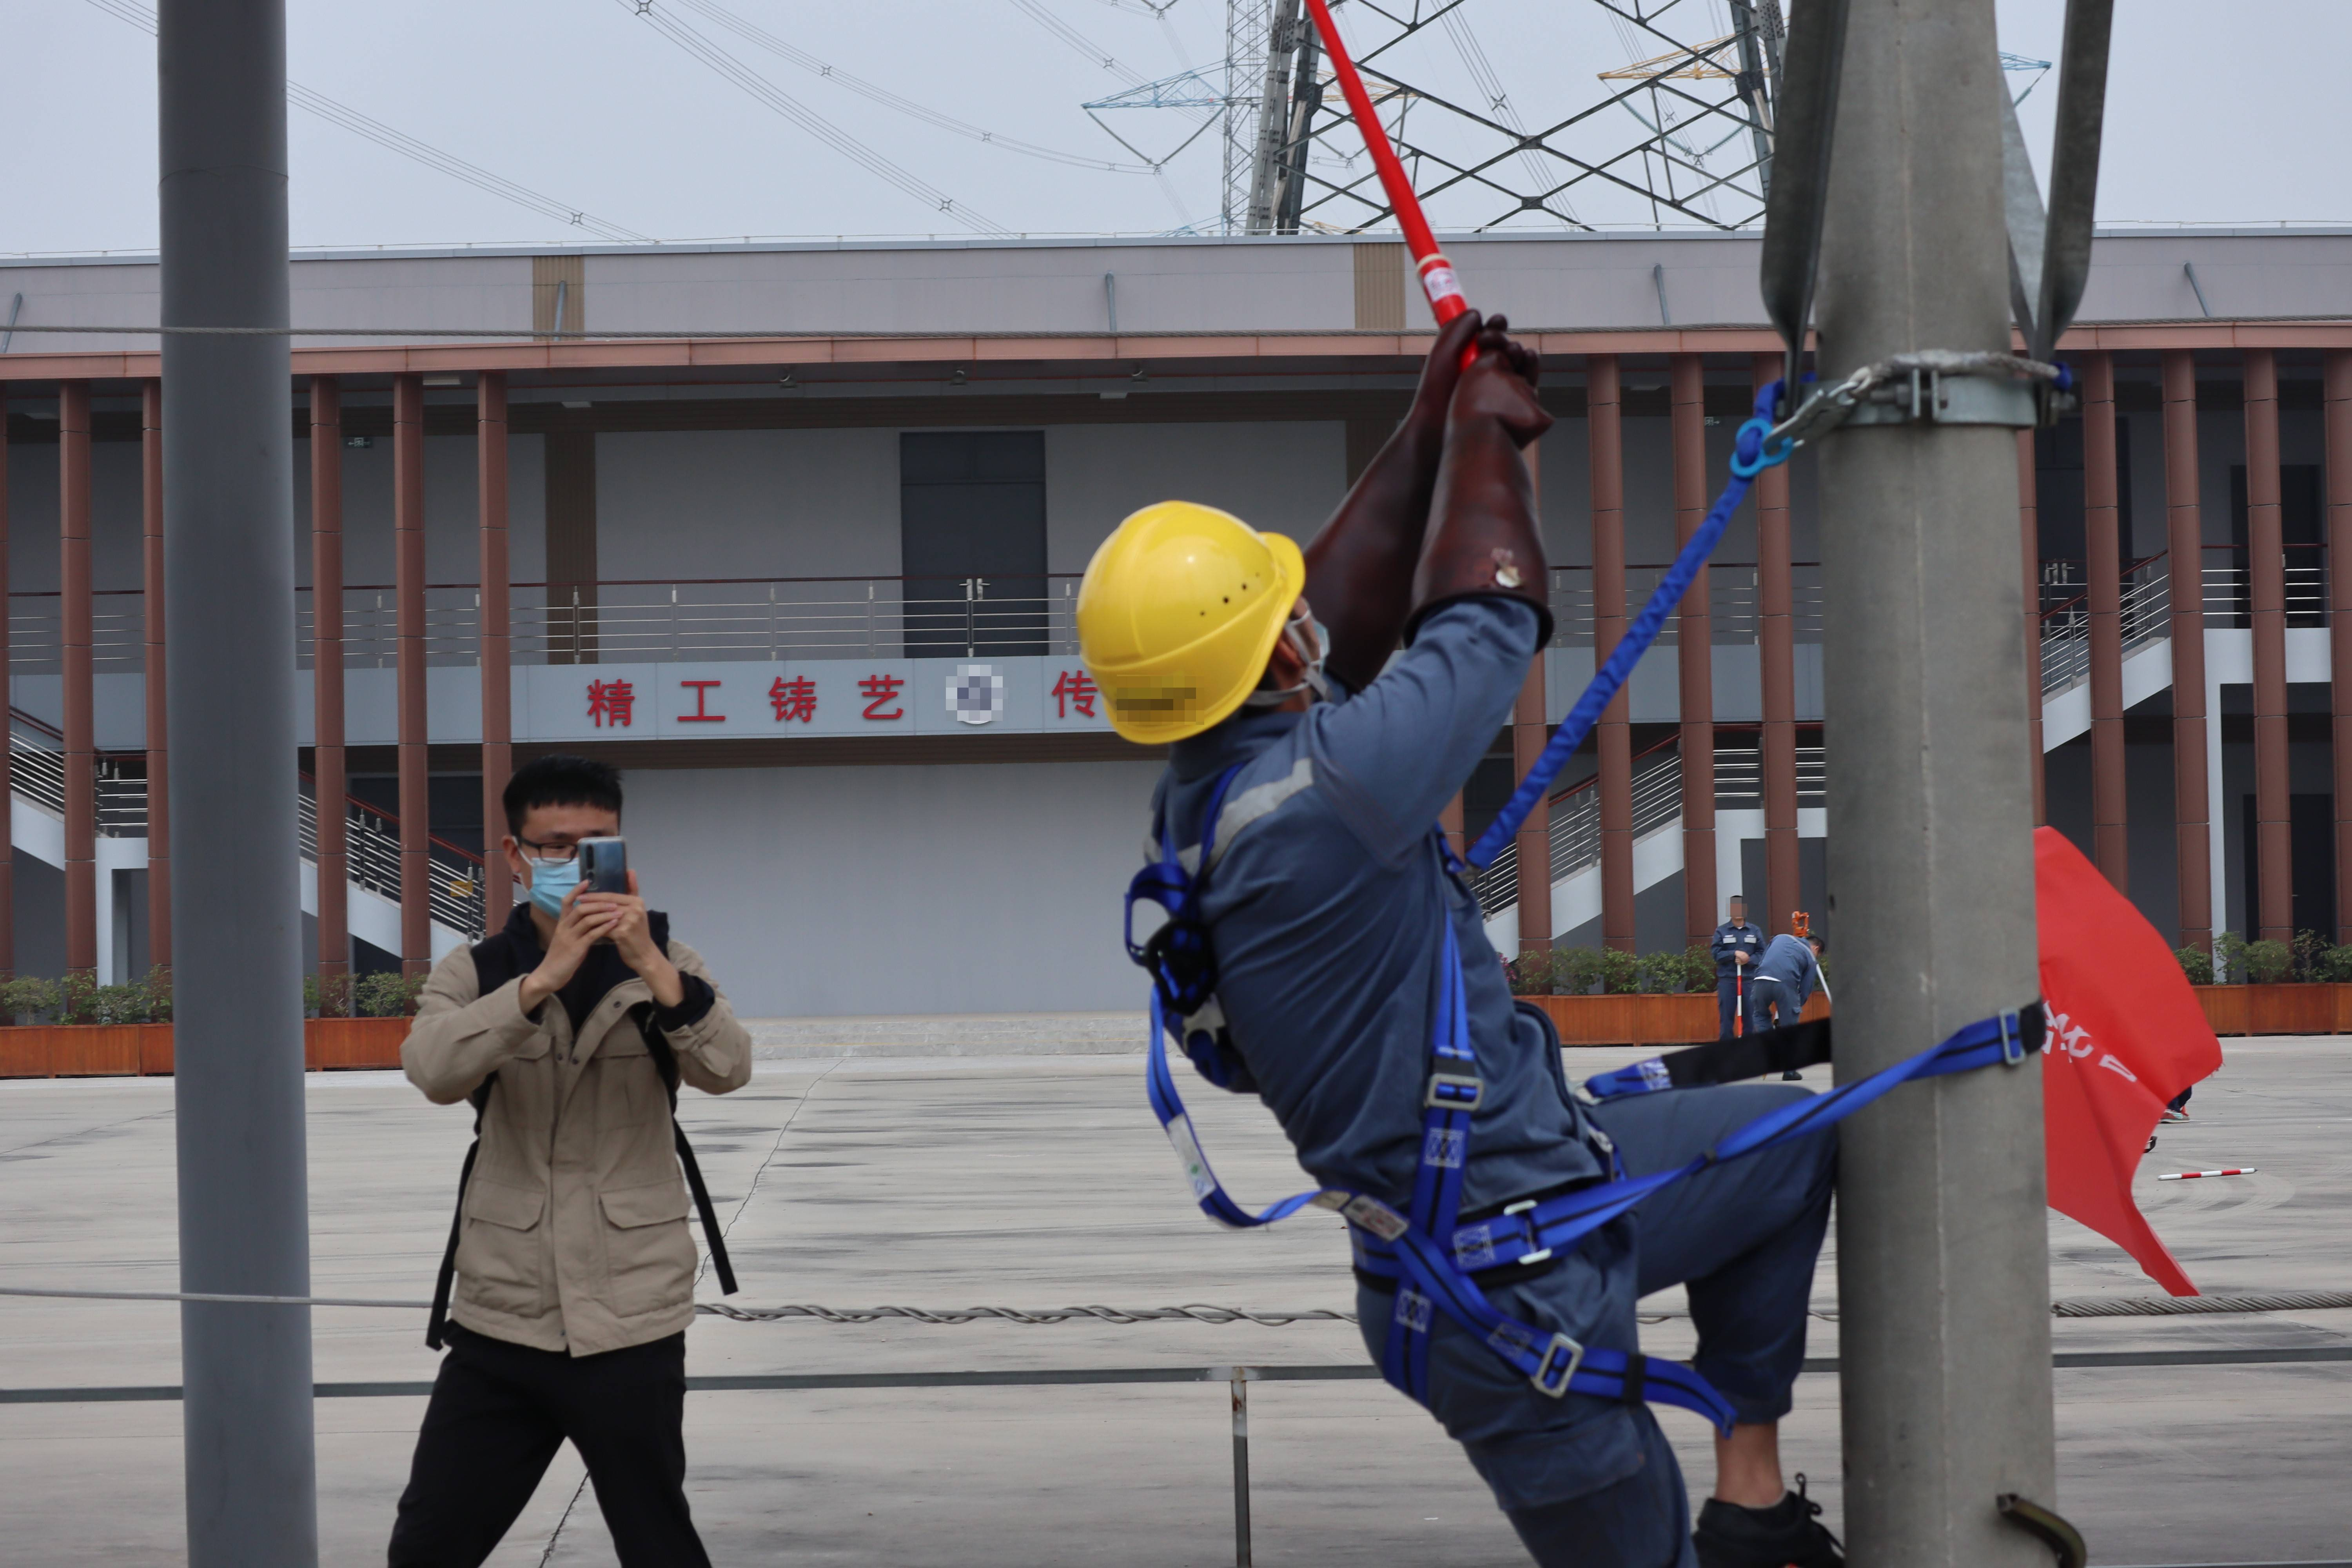downcloth: (371, 1323, 735, 1568)
downsuit: (1355, 1078, 1843, 1568), (1752, 982, 1801, 1036), (1711, 980, 1755, 1038)
upcloth: (402, 931, 772, 1367)
upsuit: (1145, 583, 1634, 1228), (1755, 931, 1818, 1003), (1711, 921, 1764, 978)
